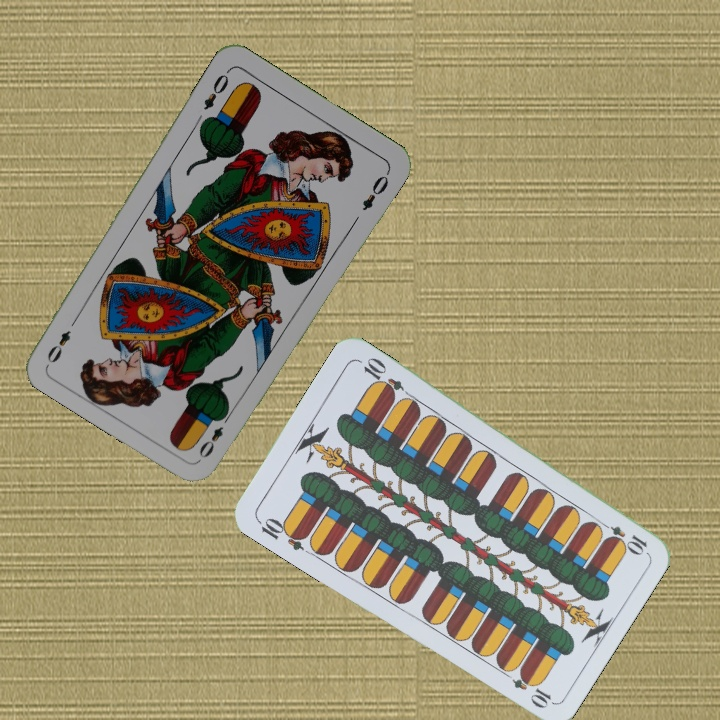E10: (253, 513, 310, 553), (594, 517, 650, 556)
EO: (194, 408, 234, 461), (199, 65, 232, 113)
